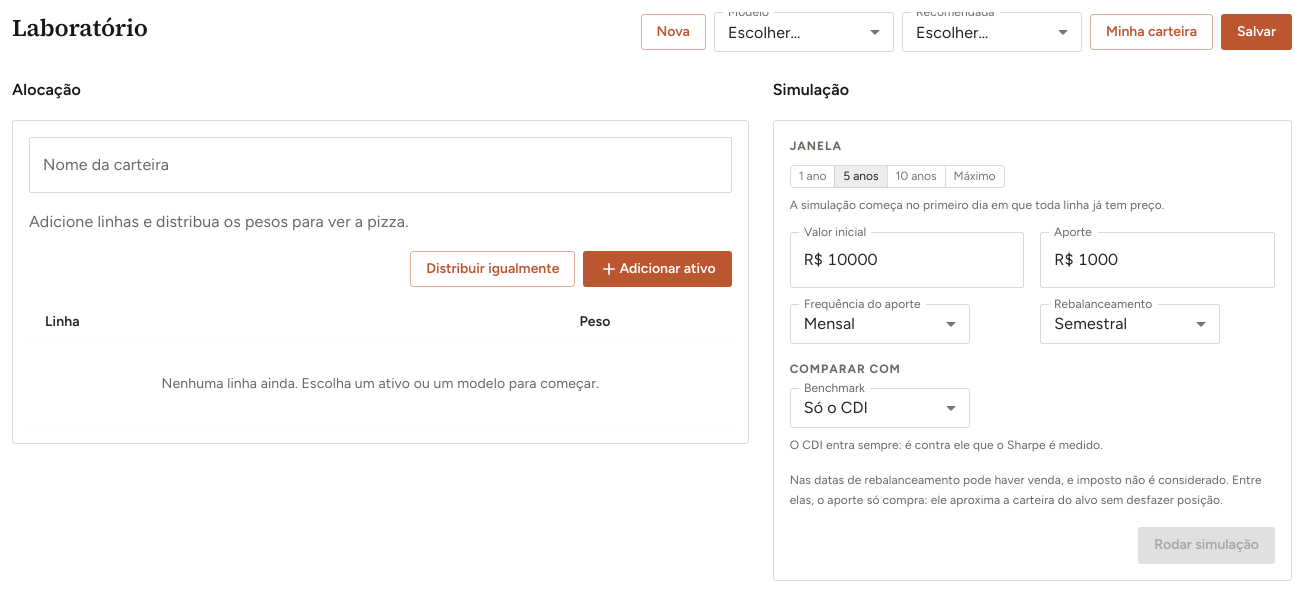
Test: MarketLaboratoryPage › warns when the weights do not add to one hundred
Check: the heading "Laboratório" is shown, box [12,12,148,44]
Press the mouse on the dropdown named "Modelo" at (764, 32), box [728,22,801,42]
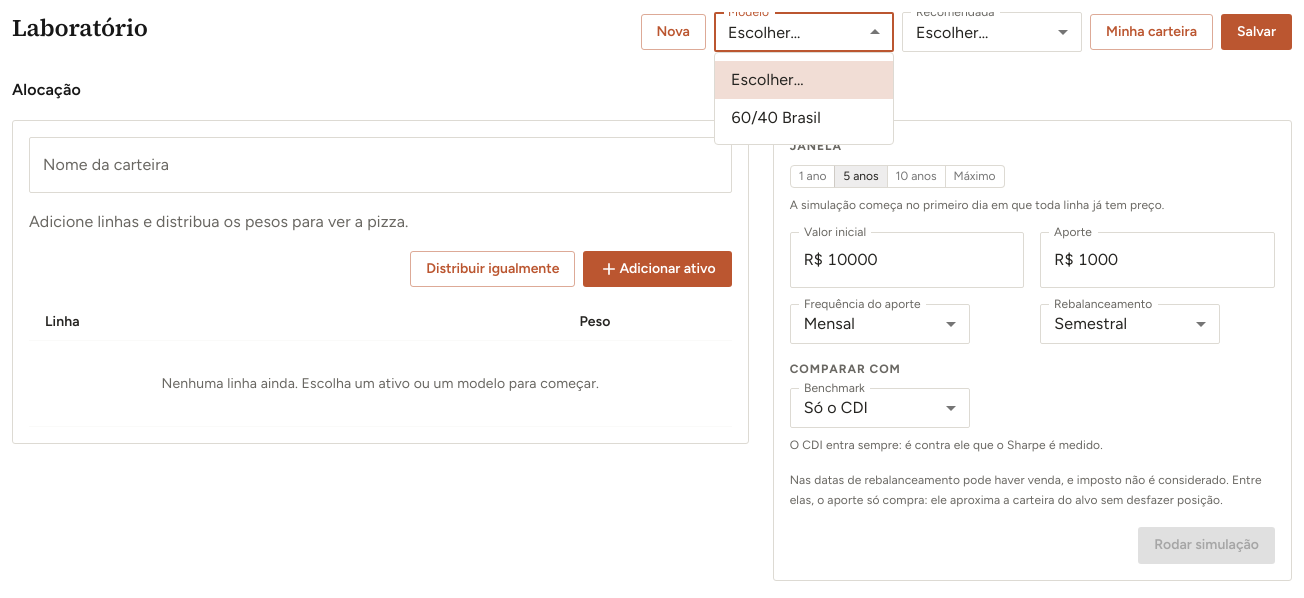
Click the option "60/40 Brasil". click: (776, 117)
box: [731,108,821,127]
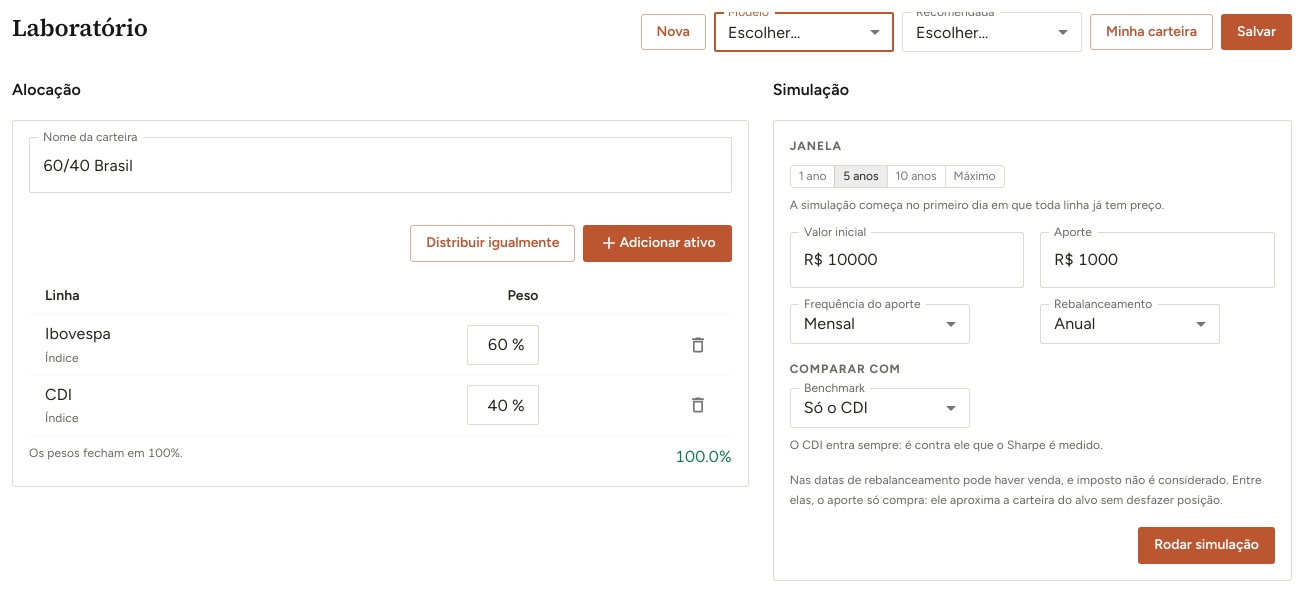
Check: the text "Ibovespa" is shown, box [45,324,111,343]
Replace the text in the number field named "Peso" in the row of "Ibovespa" with "30". click: (487, 345)
box: [467,325,508,365]
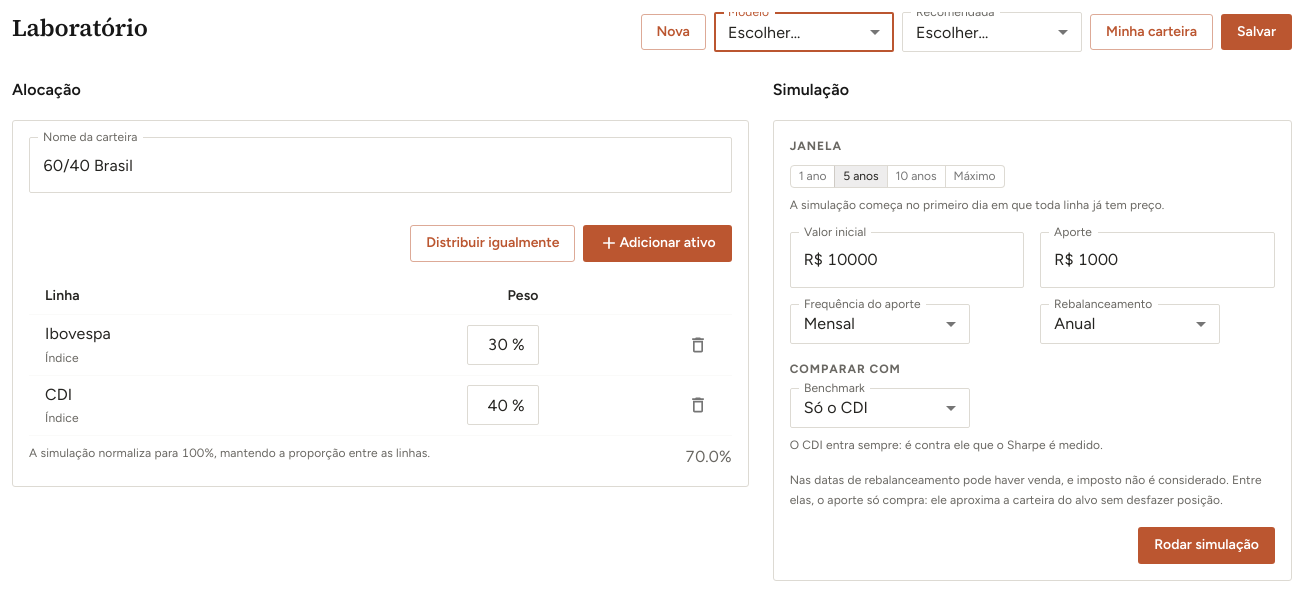
Check: the text "normaliza para 100%" is shown, box [29,446,430,460]
